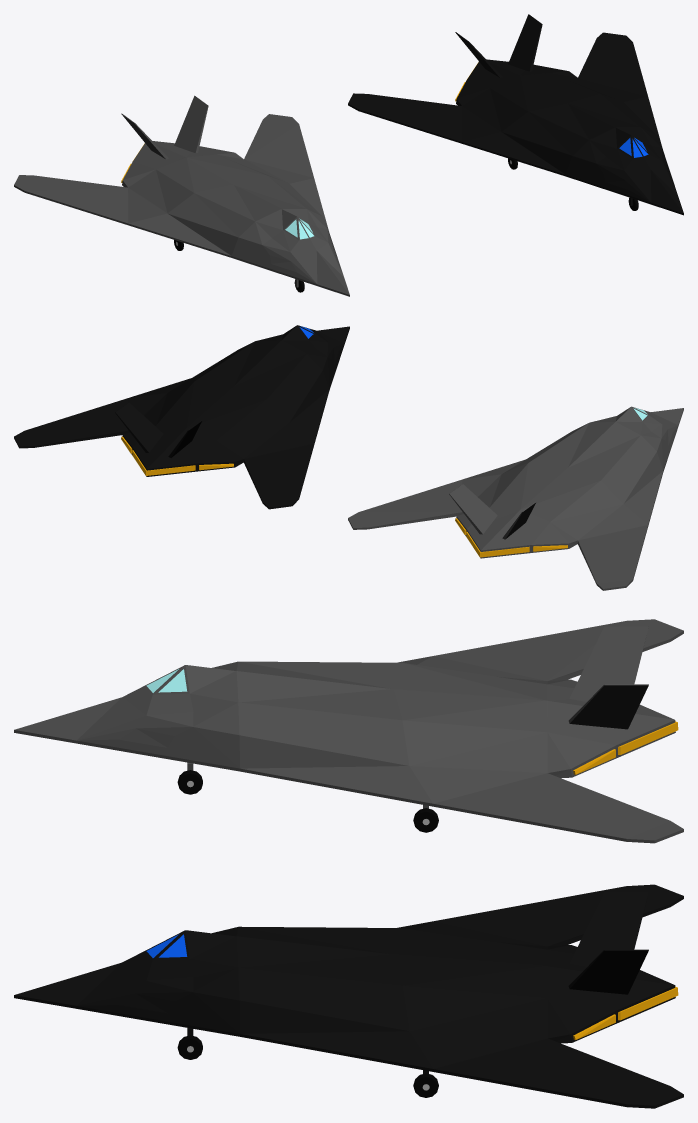
The model's file is Stealth bomber.FBX.
The picture shows the model from 3 angles, top to bottom: view 1: azimuth 30°, elevation 25°; view 2: azimuth 150°, elevation 25°; view 3: azimuth 270°, elevation 25°; orthographic projection. The views are drawn at different scales.
Visible parts, largest first — view 1: stealth bomber 2, stealth bomber; view 2: stealth bomber 2, stealth bomber; view 3: stealth bomber, stealth bomber 2.
Part boxes in pixels (x1,y1,x2,y2): stealth bomber 2: [348, 14, 683, 215]; stealth bomber: [14, 95, 349, 296]; stealth bomber 2: [14, 325, 349, 509]; stealth bomber: [348, 406, 683, 590]; stealth bomber: [14, 619, 683, 843]; stealth bomber 2: [14, 884, 683, 1108].
Size of the model in its own units: 108 by 14.29 by 63.03.
